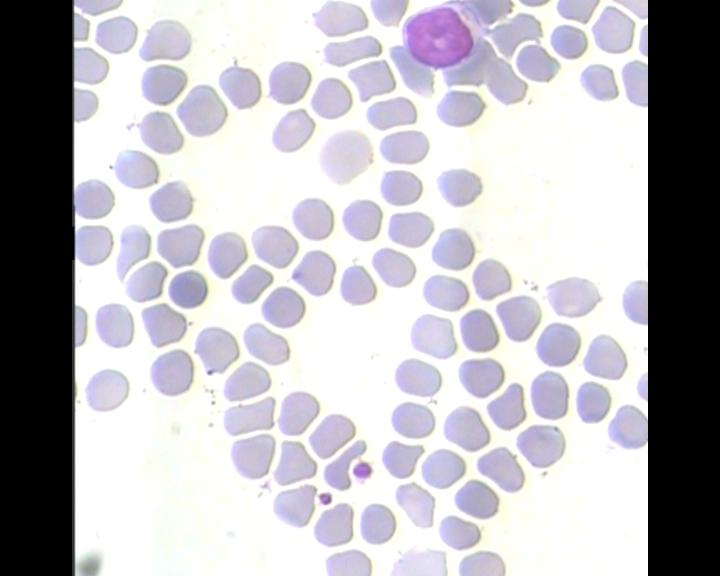lymp: (397, 0, 483, 77)
